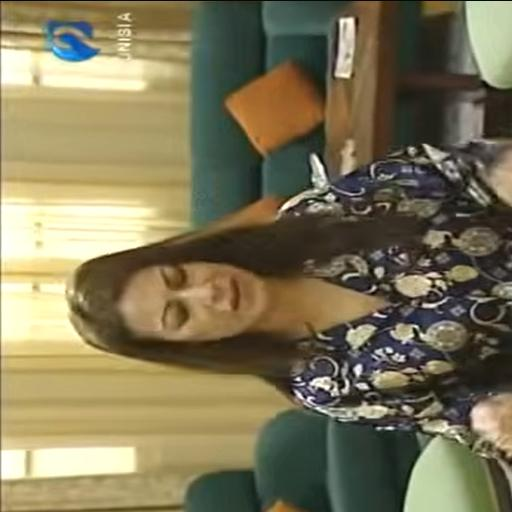zeineb: (109, 225, 296, 354)
